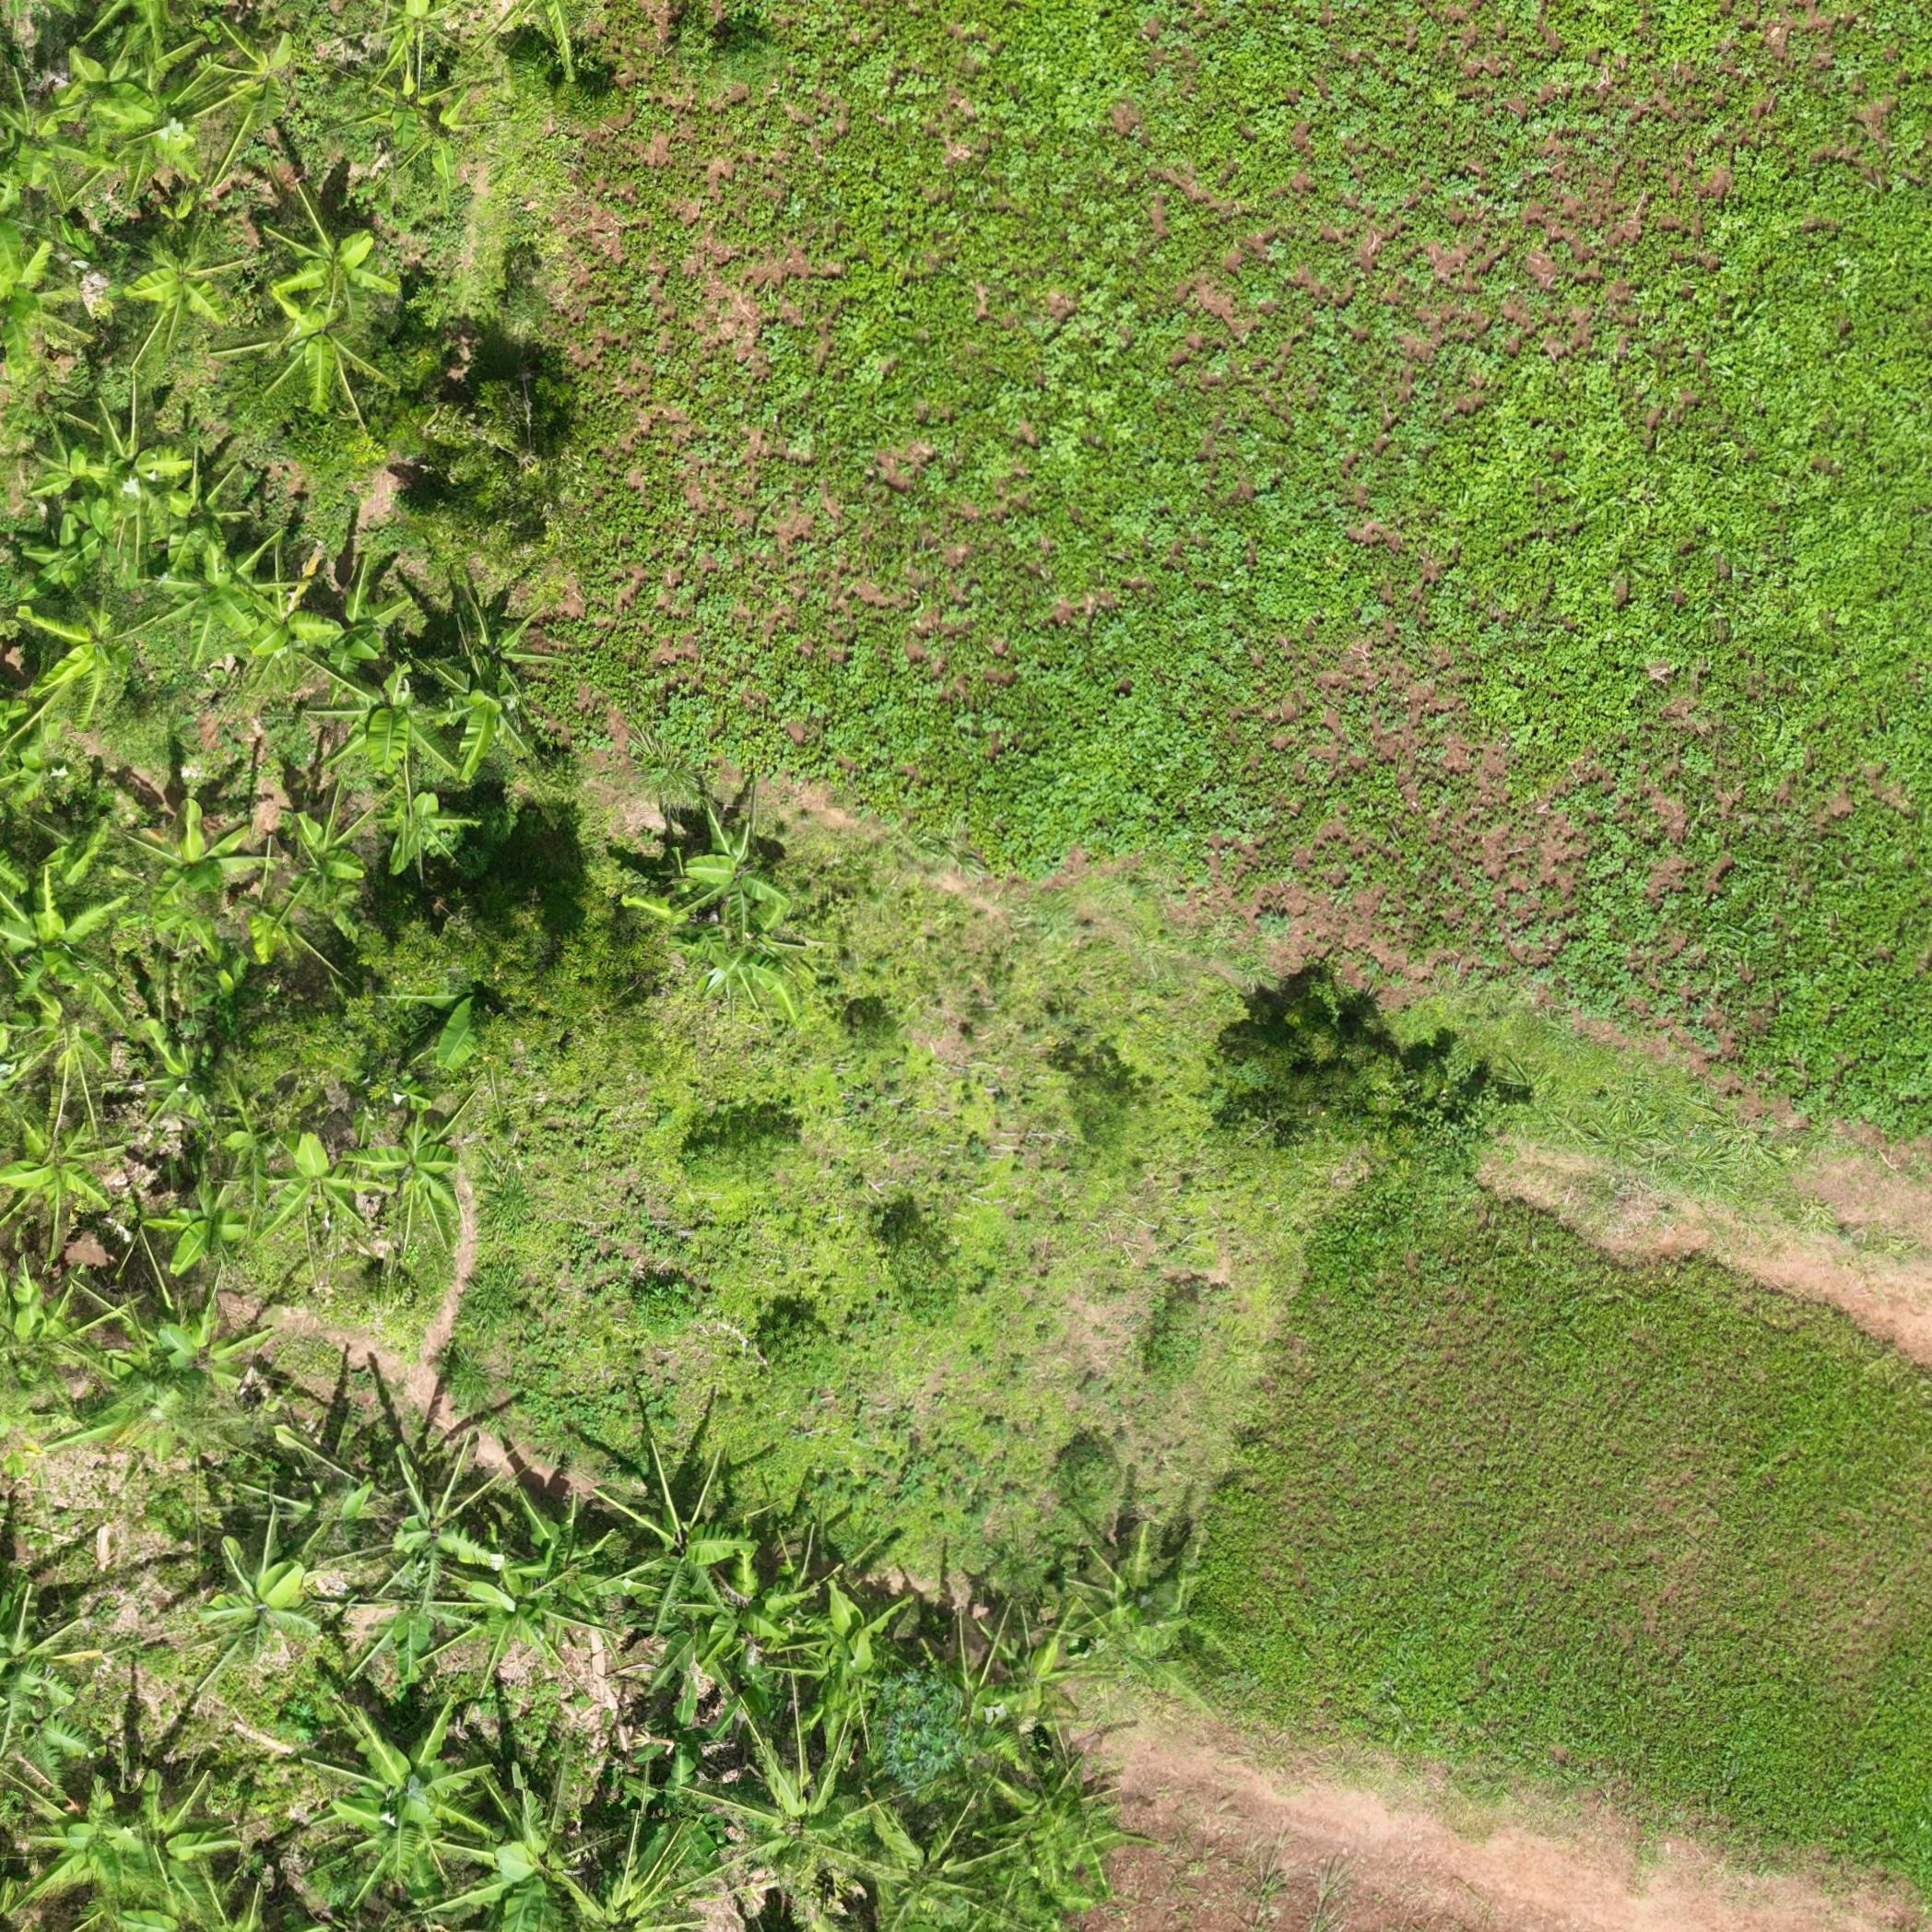Banana: (304, 1704, 495, 1849), (607, 1430, 736, 1622), (711, 1744, 872, 1898), (235, 283, 410, 414), (485, 1474, 642, 1619), (177, 1529, 324, 1672), (929, 1606, 1097, 1730), (373, 1444, 518, 1585), (127, 784, 287, 908), (839, 1806, 998, 1930), (260, 1120, 402, 1249), (65, 1316, 193, 1458), (117, 226, 244, 366), (267, 184, 421, 299), (303, 649, 433, 777), (2, 860, 127, 989), (320, 4, 471, 110), (101, 1016, 237, 1131), (607, 1736, 745, 1847), (11, 603, 134, 727), (288, 547, 410, 672), (667, 800, 793, 922), (418, 660, 536, 786), (4, 991, 127, 1109), (126, 1757, 241, 1884), (161, 545, 281, 665), (363, 1123, 481, 1246), (692, 911, 819, 1024), (2, 1113, 115, 1240), (161, 1286, 288, 1399), (23, 1776, 134, 1905), (0, 202, 80, 382), (145, 1157, 260, 1281), (44, 0, 246, 69), (207, 57, 306, 184), (370, 771, 483, 883), (318, 1819, 464, 1905), (386, 978, 513, 1076), (448, 586, 557, 695), (276, 782, 386, 890), (568, 1844, 706, 1928), (94, 370, 193, 485), (235, 577, 345, 678), (124, 474, 249, 559), (0, 1254, 87, 1376), (329, 62, 451, 145), (119, 120, 218, 212), (699, 1568, 803, 1654), (23, 508, 110, 603), (57, 53, 159, 129), (2, 65, 73, 173), (28, 414, 111, 502), (138, 55, 230, 124), (28, 127, 104, 211), (138, 892, 223, 966), (188, 952, 264, 1016)
